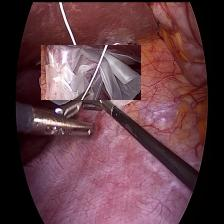Specimen Bag: (40, 44, 140, 99)
